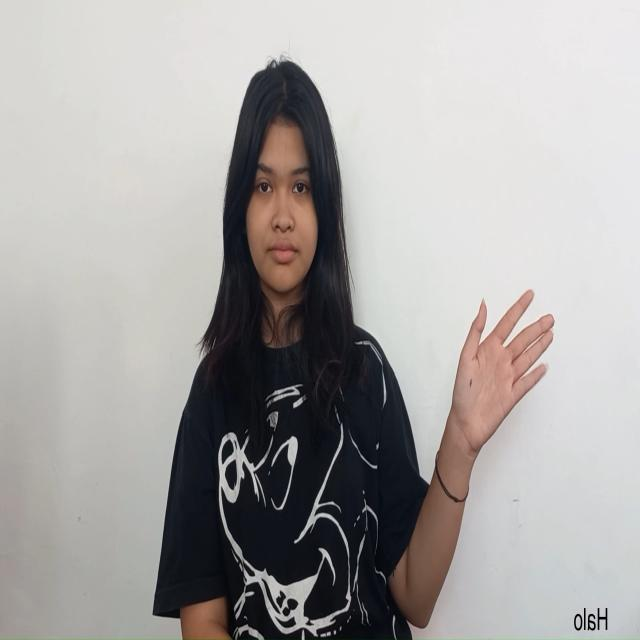Halo -BISINDO-: (436, 288, 556, 462)
